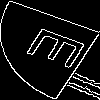E: (25, 24, 99, 76)
